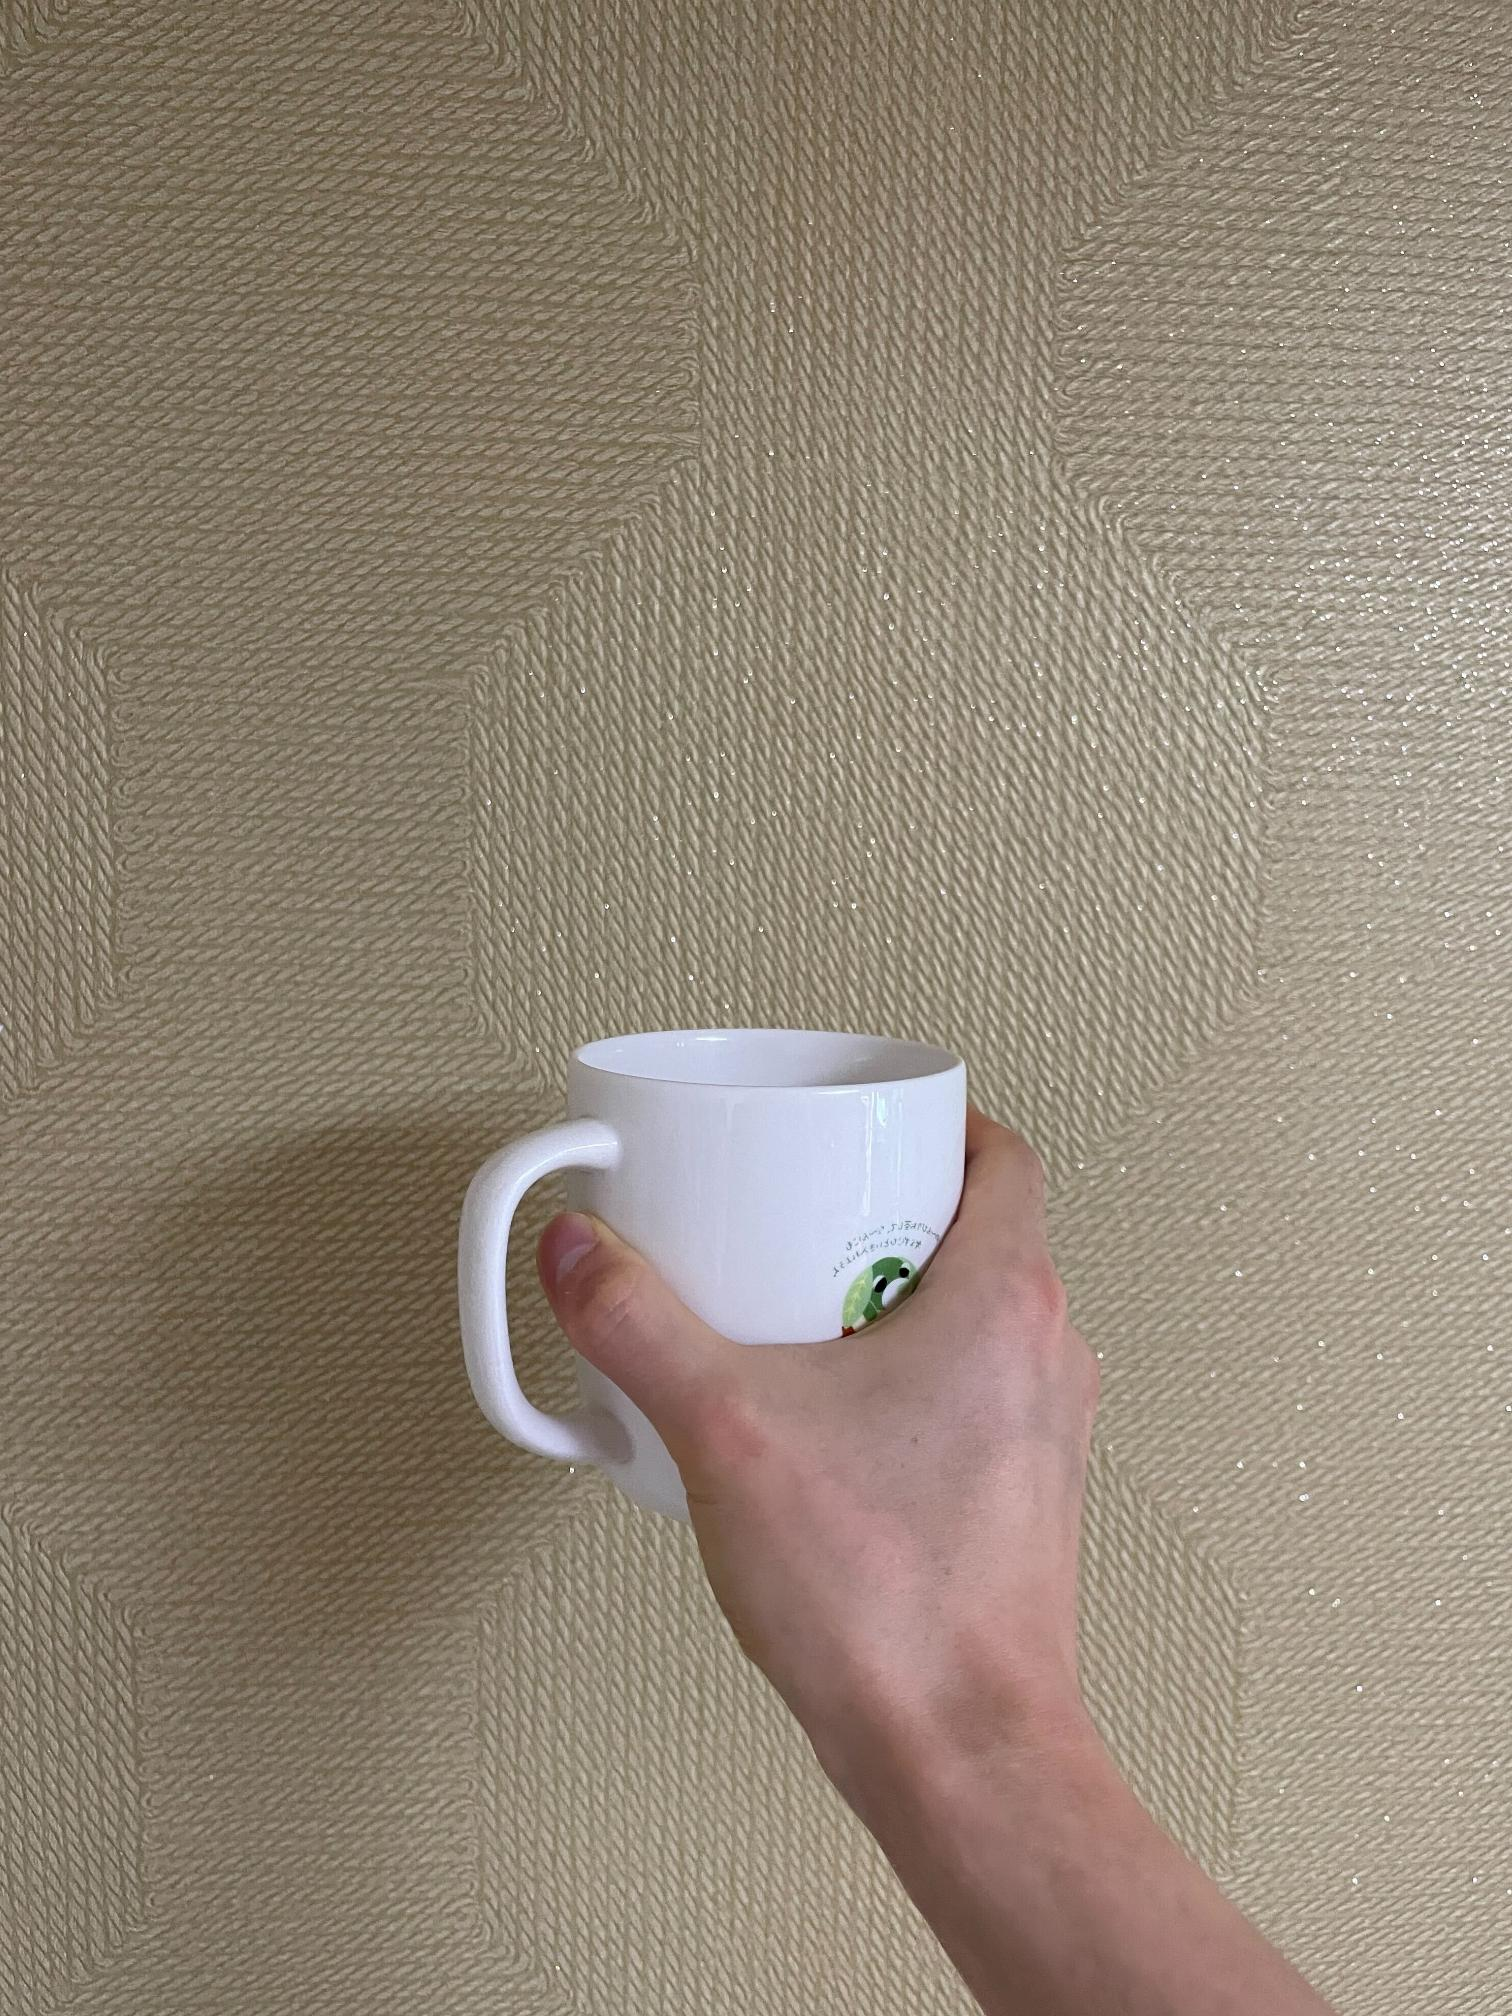cup: (443, 1019, 1121, 1811)
